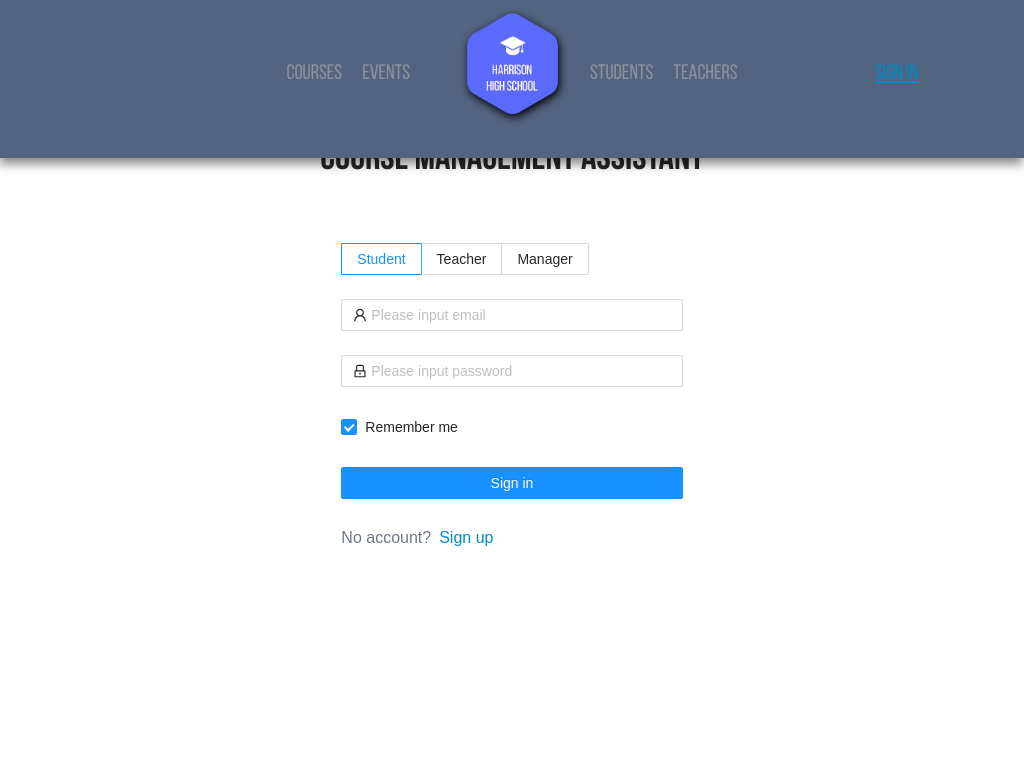
Scenario: Login Page works as intended › ID02: Display error messages without input
Click the button "Sign in" at (512, 483), box left=341, top=467, right=682, bottom=499
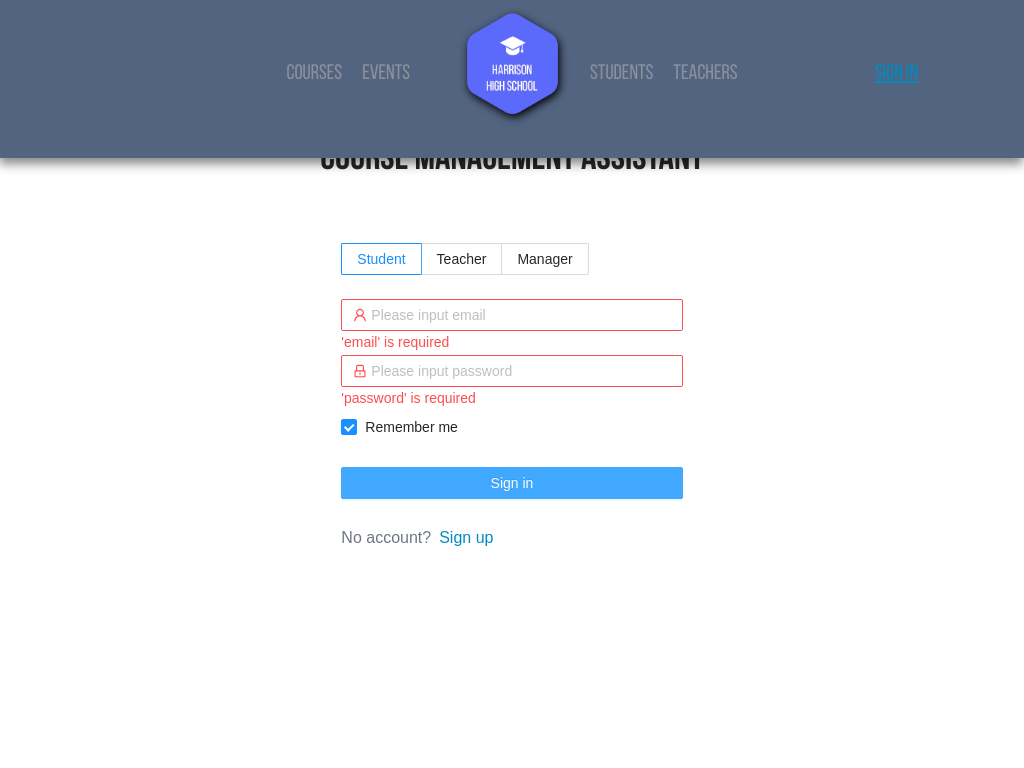
Expected: the text "email' is required" is shown once, left=341, top=334, right=449, bottom=350
Expected: the text "'password' is required" is shown once, left=341, top=390, right=476, bottom=406
